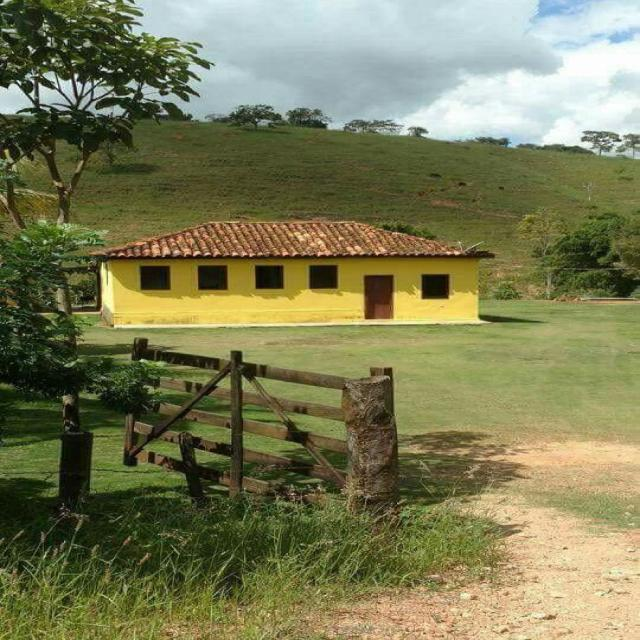Fachada: (95, 222, 492, 326)
